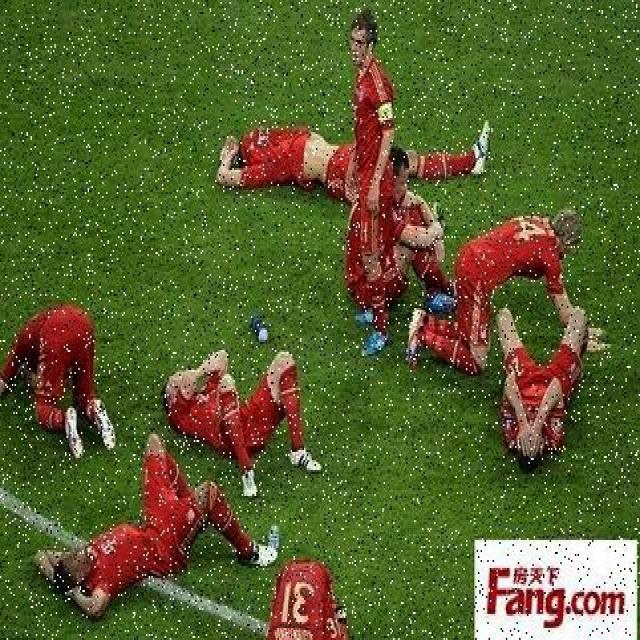fall: (44, 456, 243, 626), (164, 342, 328, 490), (223, 116, 486, 192), (0, 300, 113, 454), (500, 306, 580, 464)
